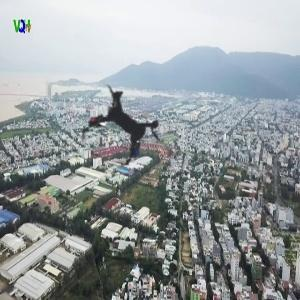drone: (54, 54, 202, 202)
